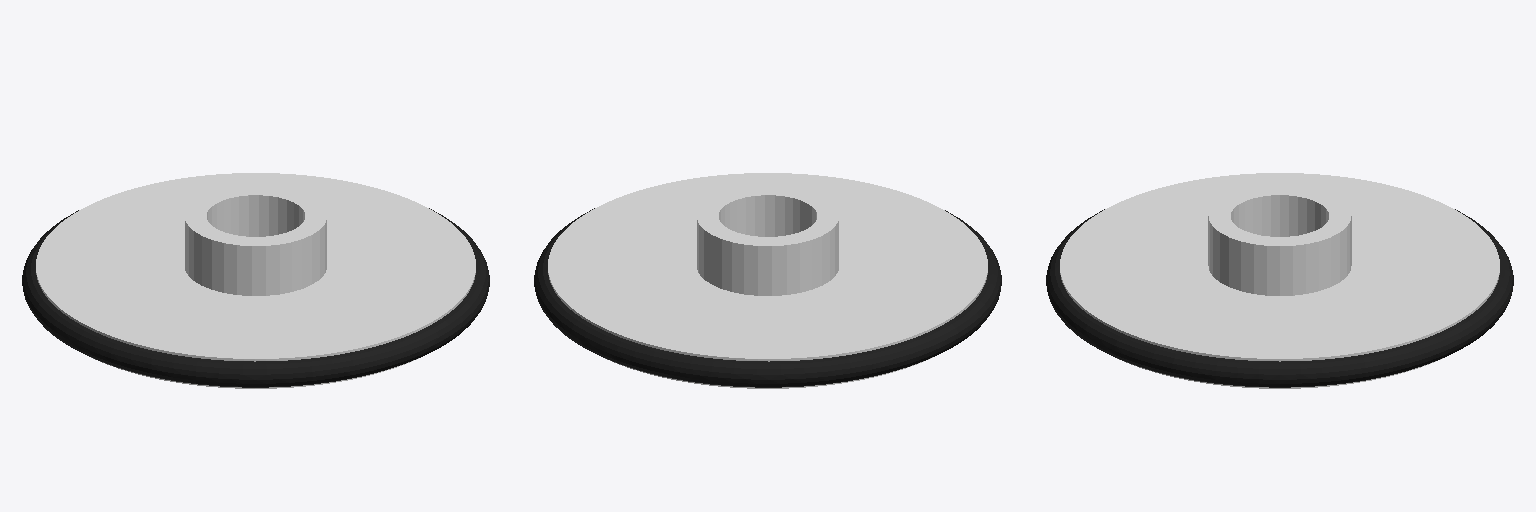
File: IRIDIAepuck3D_Nov2019_LeftWheel.obj
3 renders of one model, left to right at view 1: azimuth 30°, elevation 25°; view 2: azimuth 150°, elevation 25°; view 3: azimuth 270°, elevation 25°, orthographic.
Parts seen in each view (by area): view 1: brep_1; view 2: brep_1; view 3: brep_1.
Boxes of the visible parts, box(x1,y1,x2,y2) form: brep_1: box(22, 173, 489, 388); brep_1: box(534, 173, 1001, 388); brep_1: box(1046, 173, 1513, 388).
Bounding box in the file's own units: 0.0425 × 0.008 × 0.0425.